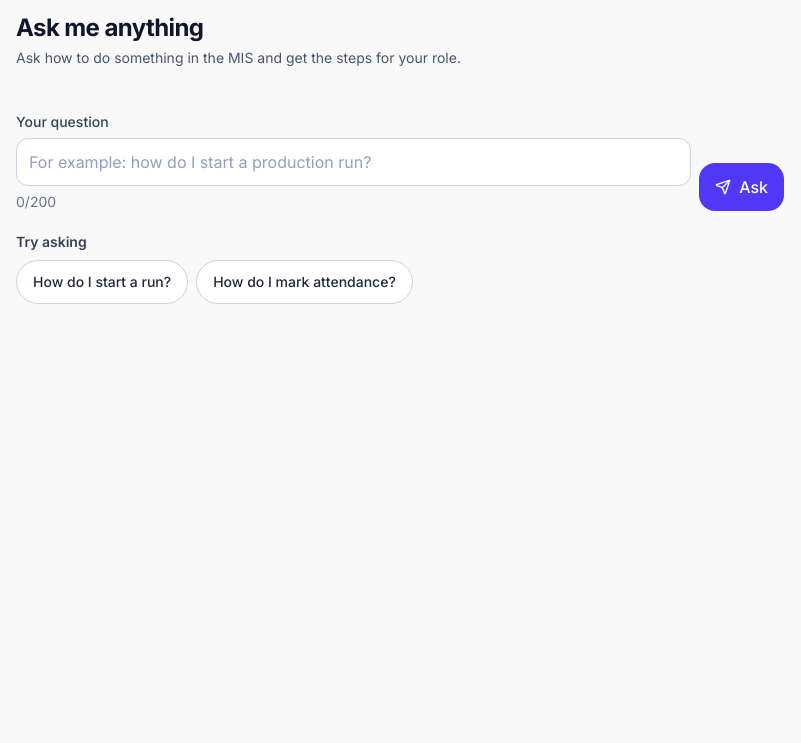
Test: AskScreen › denied answer: amber status and no open button
Click the button "How do I start a run?". click: (102, 282)
box: [16,260,188,304]
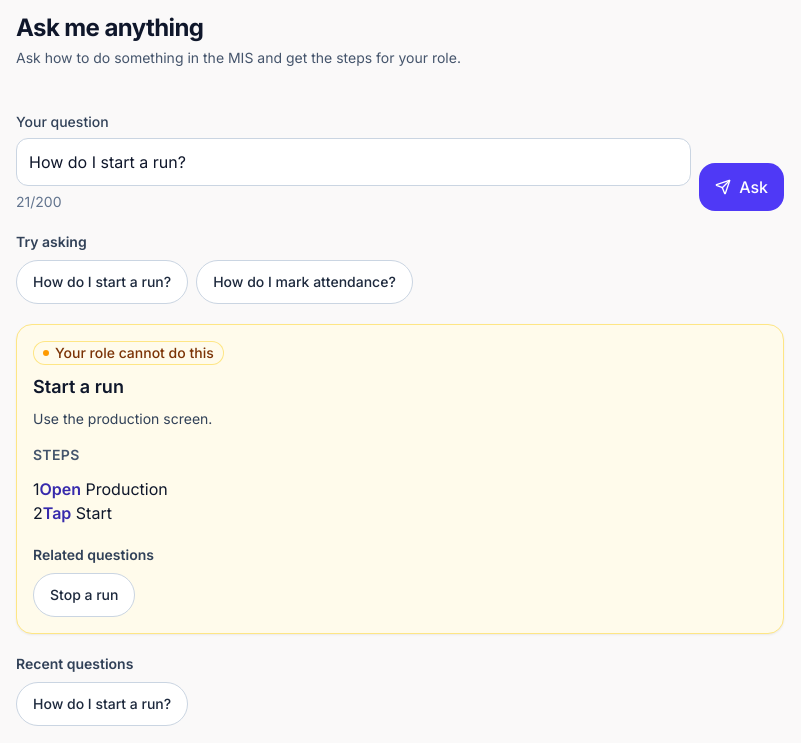
expect the text "Your role cannot do this" is shown: met, box [33,341,224,365]
